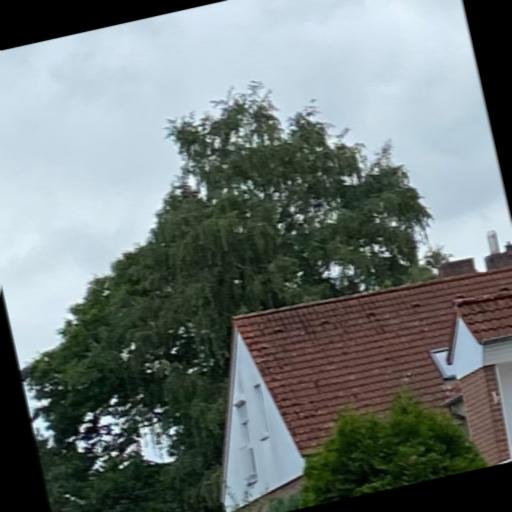tree: (20, 80, 456, 511)
